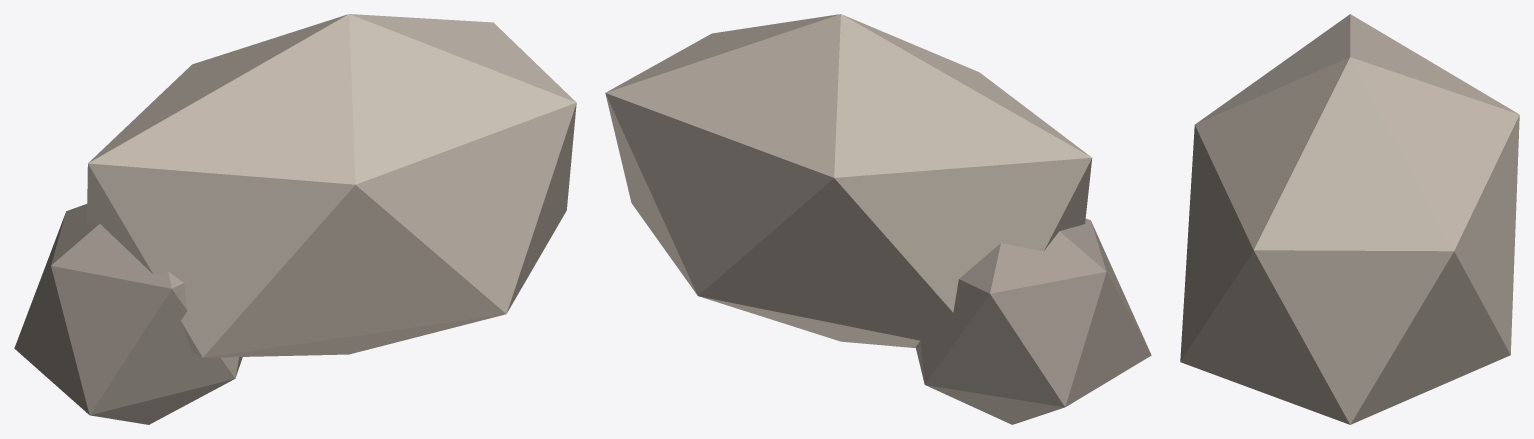
The model's file is Mountain_Rock1.fbx.
3 renders of one model, left to right at view 1: azimuth 30°, elevation 25°; view 2: azimuth 150°, elevation 25°; view 3: azimuth 270°, elevation 25°, orthographic. The views are drawn at different scales.
Parts seen in each view (by area): view 1: Mountain_Rock1; view 2: Mountain_Rock1; view 3: Mountain_Rock1.
Part boxes in pixels (left/top/right/bottom): Mountain_Rock1: left=14, top=14, right=576, bottom=424; Mountain_Rock1: left=605, top=14, right=1151, bottom=424; Mountain_Rock1: left=1180, top=14, right=1519, bottom=424.
Bounding box in the file's own units: 2.66 × 1.87 × 1.49.
